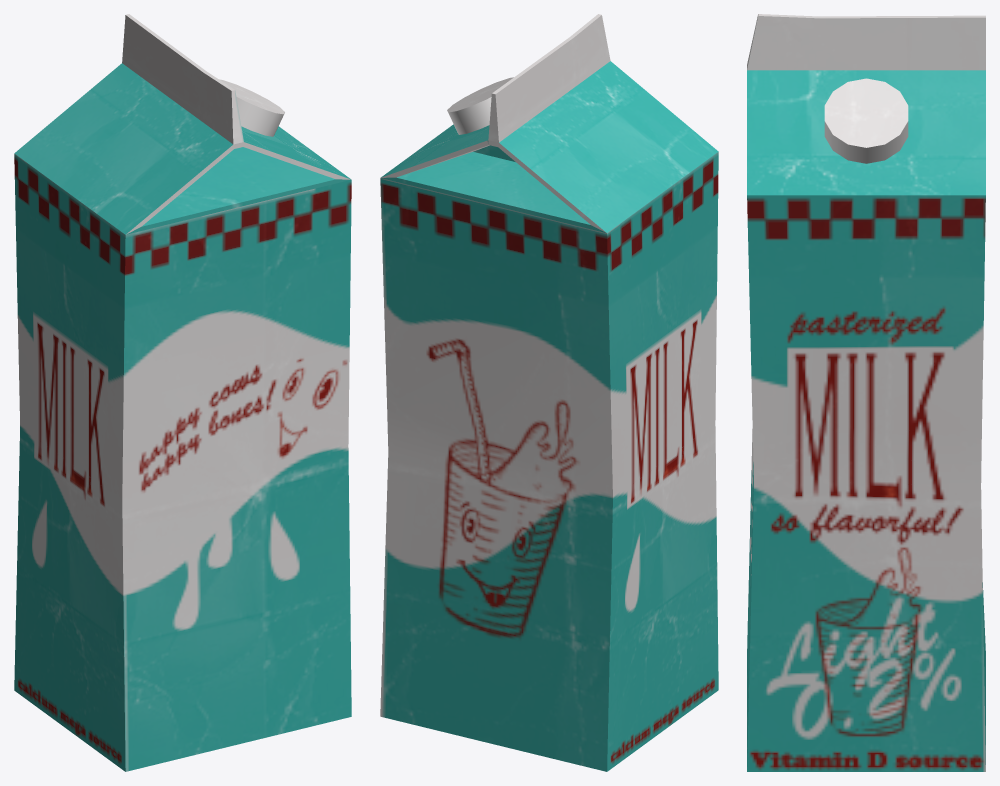
Rendered from FinalMilk.fbx.
The picture shows the model from 3 angles, left to right: view 1: azimuth 30°, elevation 25°; view 2: azimuth 150°, elevation 25°; view 3: azimuth 270°, elevation 25°; orthographic projection. The views are drawn at different scales.
Visible parts, largest first — view 1: MilkCarton_MilkCarton; view 2: MilkCarton_MilkCarton; view 3: MilkCarton_MilkCarton.
Boxes of the visible parts, box(x1,y1,x2,y2) form: MilkCarton_MilkCarton: box(14, 14, 351, 771); MilkCarton_MilkCarton: box(380, 14, 718, 771); MilkCarton_MilkCarton: box(747, 14, 985, 771).
Bounding box in the file's own units: 1.53 × 4.2 × 1.3.
